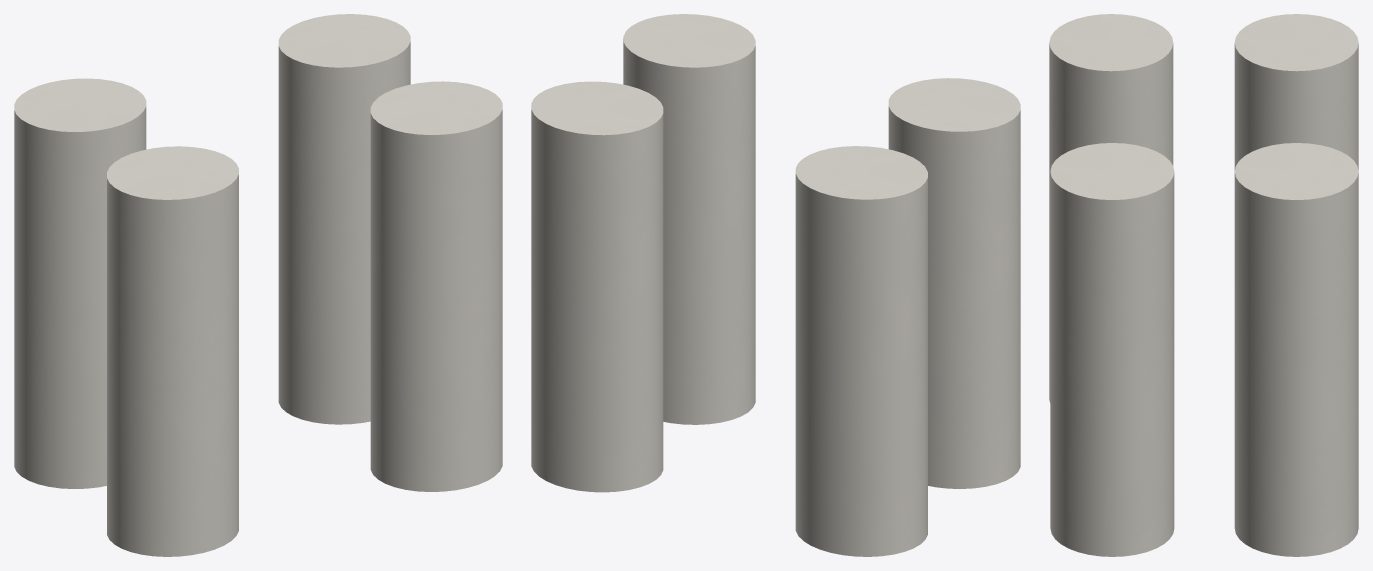
The model's file is pale_leaf2_standard_grove.glb.
The picture shows the model from 3 angles, left to right: view 1: azimuth 30°, elevation 25°; view 2: azimuth 150°, elevation 25°; view 3: azimuth 270°, elevation 25°; orthographic projection.
Visible parts, largest first — view 1: grove; view 2: grove; view 3: grove.
Part boxes in pixels (left/top/right/bottom): grove: left=14, top=14, right=502, bottom=556; grove: left=531, top=14, right=1020, bottom=556; grove: left=1049, top=14, right=1358, bottom=556.
Size of the model in its own units: 2.73 by 2.44 by 1.92.
1 material, 1 textured.
